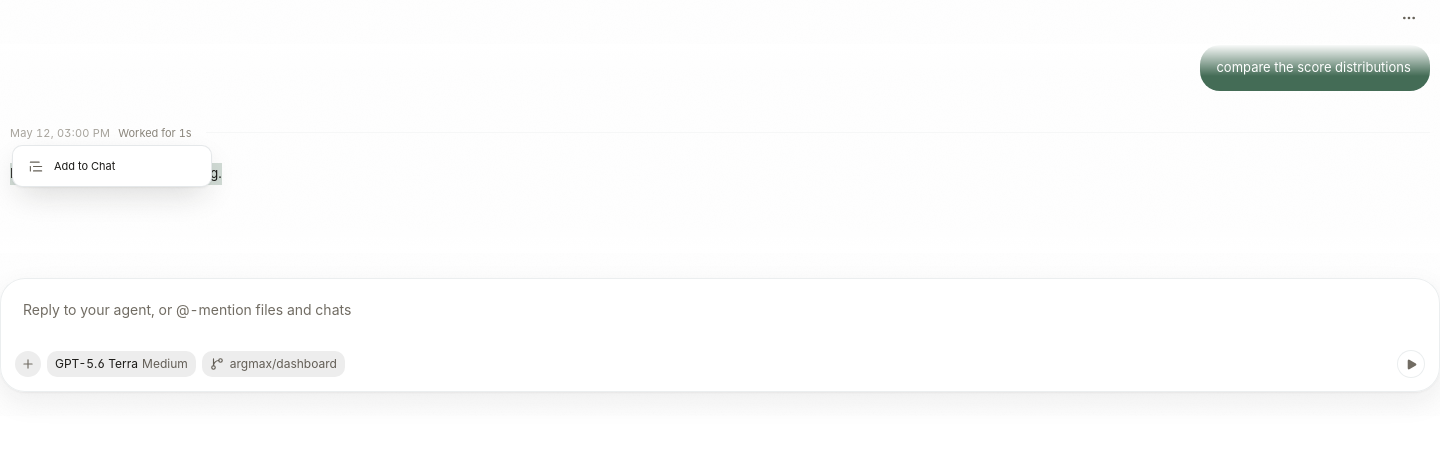
Test: SessionConversation selection annotations › attaches the selection as an annotation chip and clears the selection
The width and height of the screenshot is (1440, 461).
Step 1. Click the menu item "Add to Chat" → coordinates (112, 166), box [19,152,205,180]
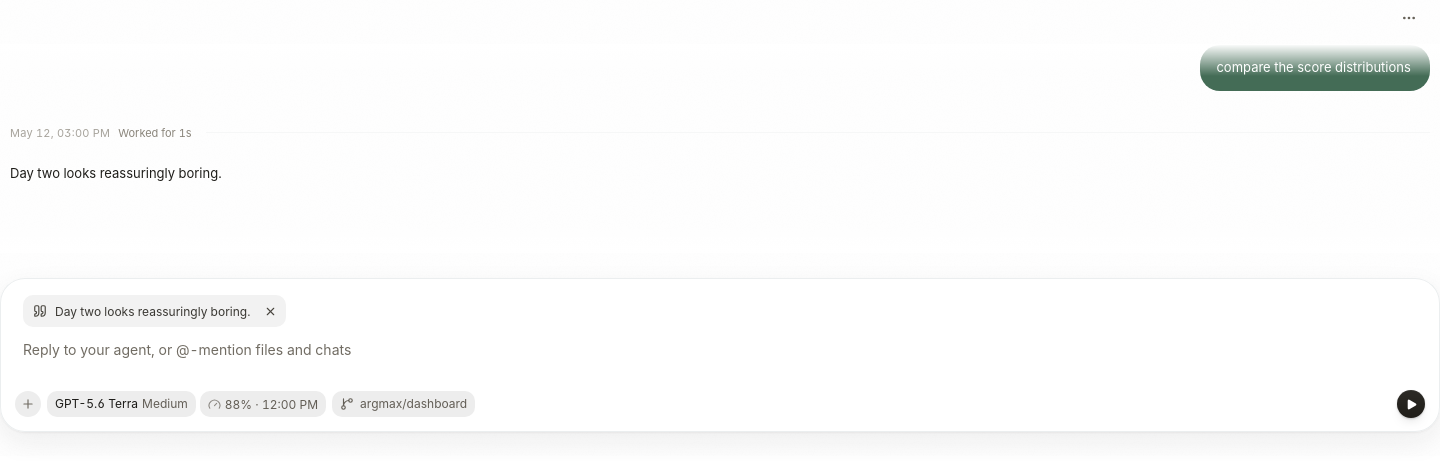
Now the list item with aria-label "Annotation: Day two looks reassuringly boring." is shown, box [23,295,286,327]
